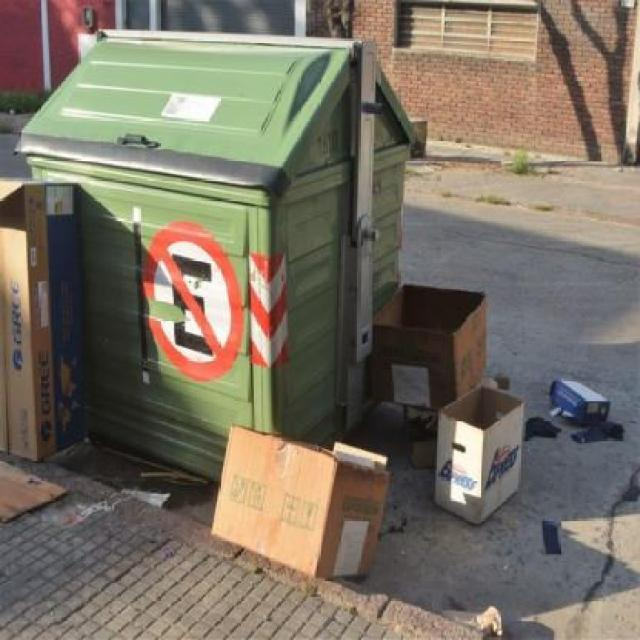garbage: (374, 266, 632, 594), (214, 426, 401, 597), (0, 169, 84, 464), (470, 591, 516, 640)
